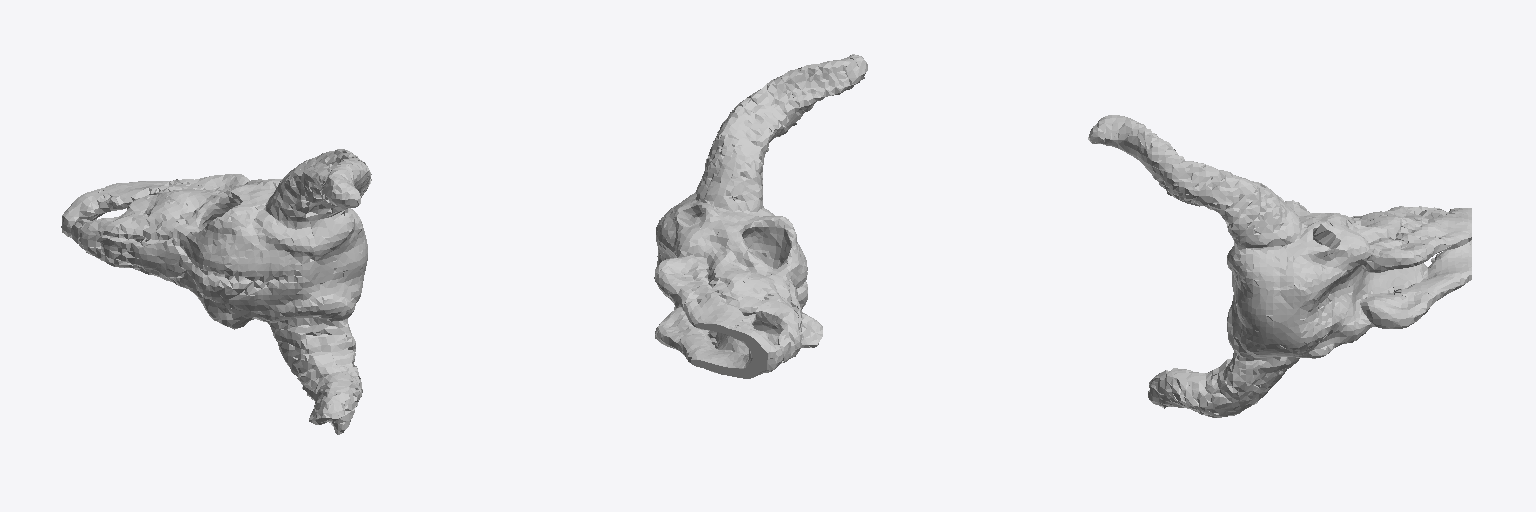
The model's file is 859652-skull_Clustering_90pct.obj.
3 renders of one model, left to right at view 1: azimuth 30°, elevation 25°; view 2: azimuth 150°, elevation 25°; view 3: azimuth 270°, elevation 25°, orthographic.
Size of the model in its own units: 0.6292 by 0.8044 by 1.